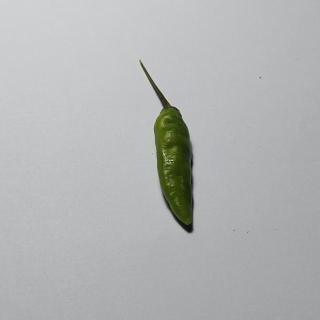Cabai Hijau: (129, 54, 210, 236)
